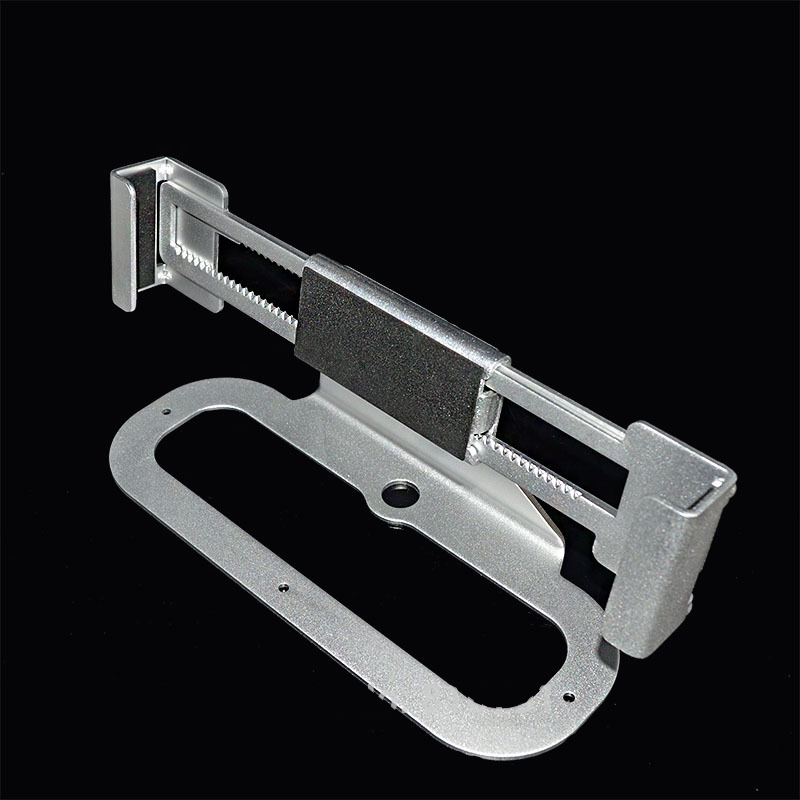braket: (596, 407, 743, 663), (91, 142, 245, 330)
center hole: (362, 462, 432, 526)
fronthole: (257, 569, 333, 631)
lefthole: (146, 389, 196, 437)
righthole: (550, 673, 590, 722)
smooth: (351, 331, 444, 423), (325, 312, 385, 384)
